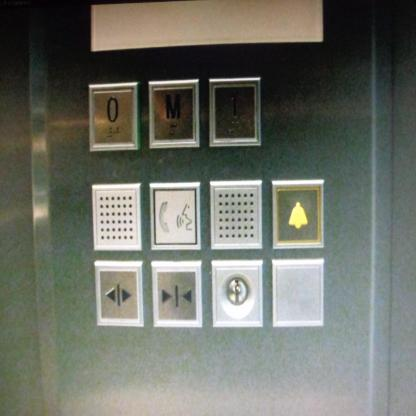0: (88, 83, 139, 153)
1: (209, 78, 262, 146)
M: (148, 80, 201, 148)
alarm: (272, 180, 323, 248)
bt_keyhole: (212, 261, 263, 327)
call: (149, 182, 201, 249)
close: (151, 261, 202, 329)
empty: (270, 256, 326, 333)
open: (93, 262, 144, 328)
speaker: (209, 178, 263, 253), (89, 180, 143, 254)
